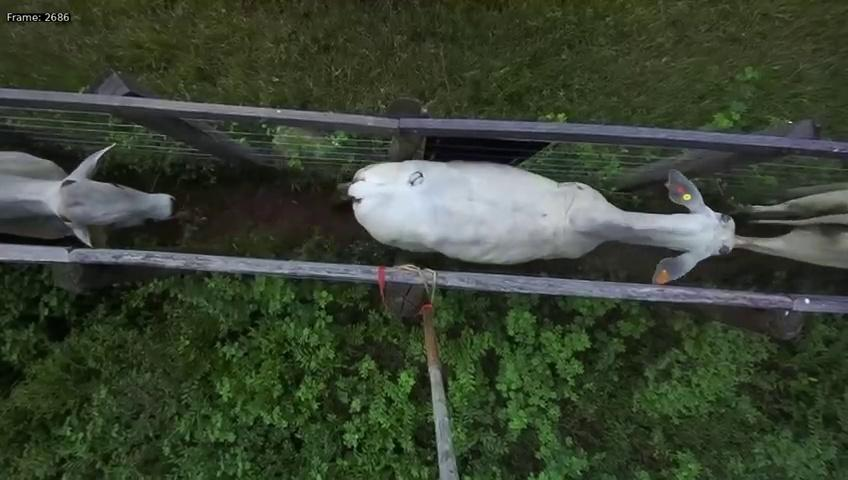cattle: (339, 152, 746, 284)
